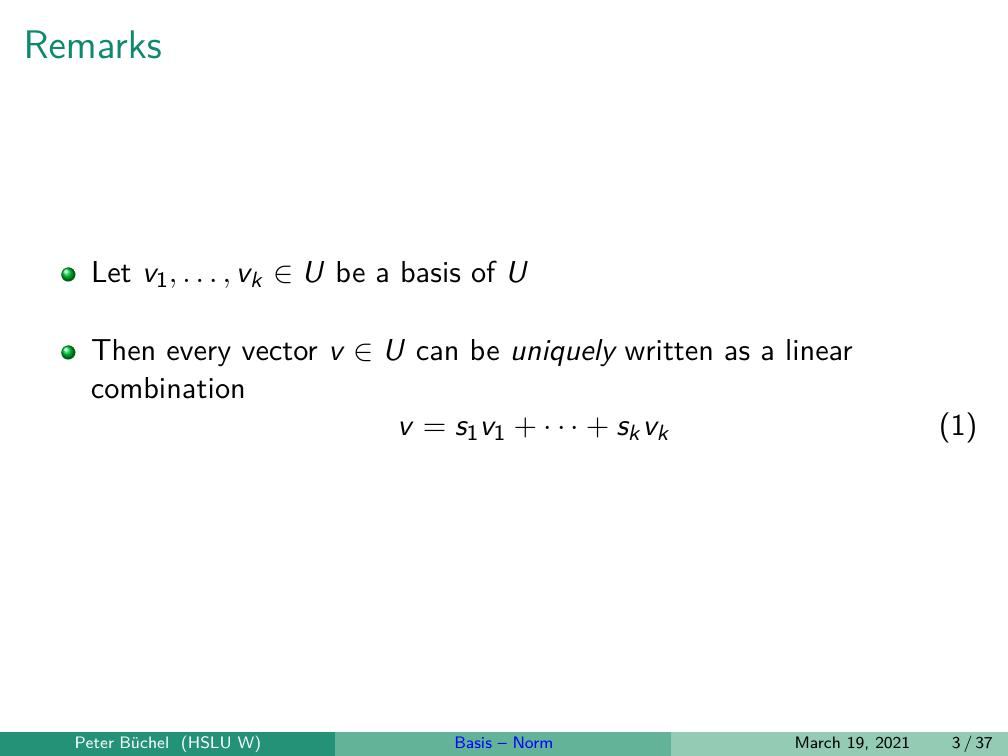Title: (21, 23, 178, 66)
